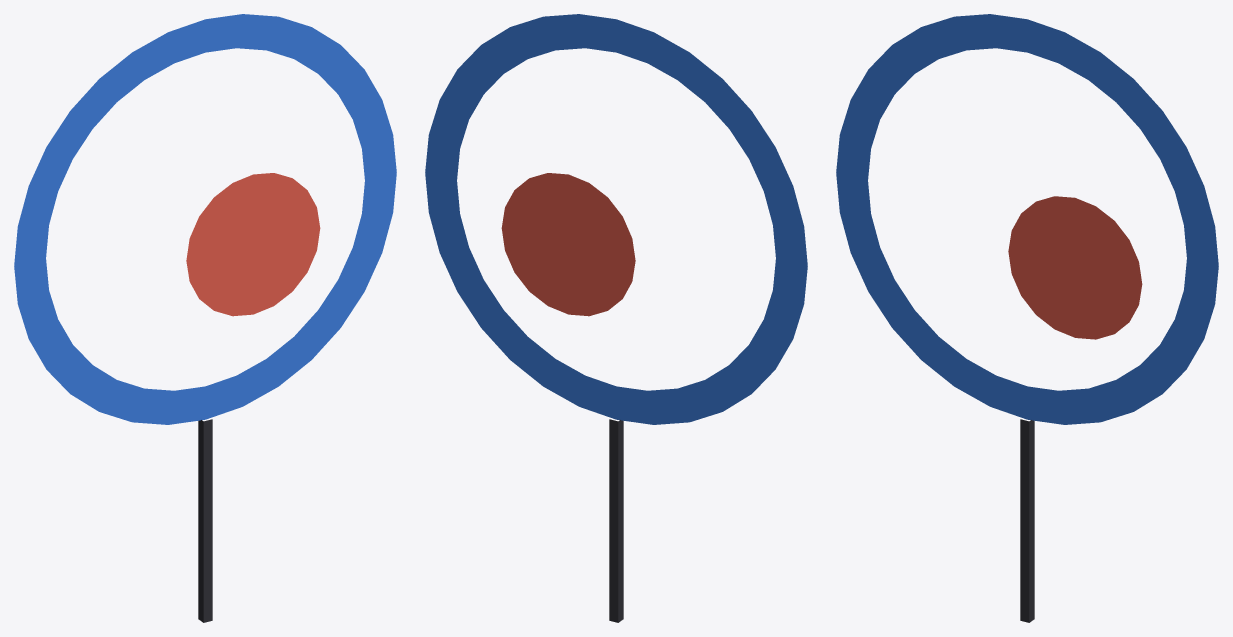
3 renders of one model, left to right at view 1: azimuth 30°, elevation 25°; view 2: azimuth 150°, elevation 25°; view 3: azimuth 330°, elevation 25°, orthographic.
Parts seen in each view (by area): view 1: root; view 2: root; view 3: root.
Part boxes in pixels (x1,y1,x2,y2): root: [14, 14, 396, 622]; root: [425, 14, 807, 622]; root: [836, 14, 1218, 622].
Bounding box in the file's own units: 6 × 9 × 0.14.
